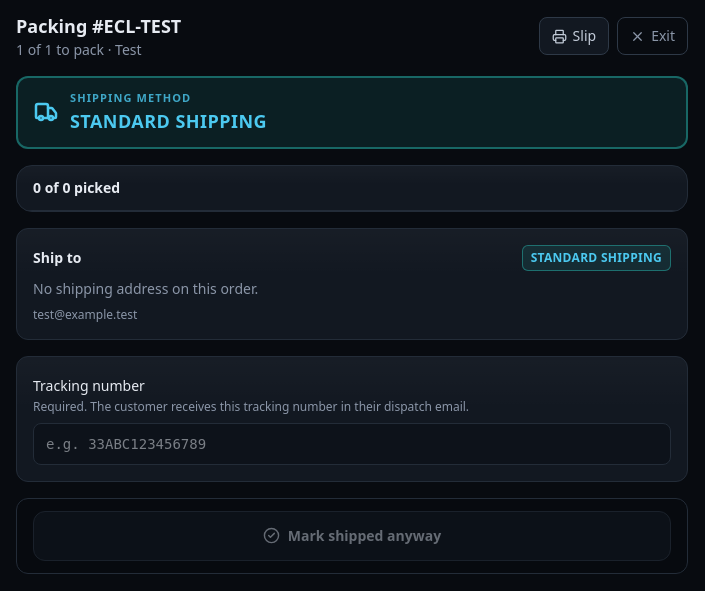
it: also requires tracking on the packing screen
Check: the button "Mark shipped anyway" is disabled, box [33,510,671,560]
Type "TRACK123" into the field labelled "Tracking number" at x=352, y=444, box [33,422,671,464]
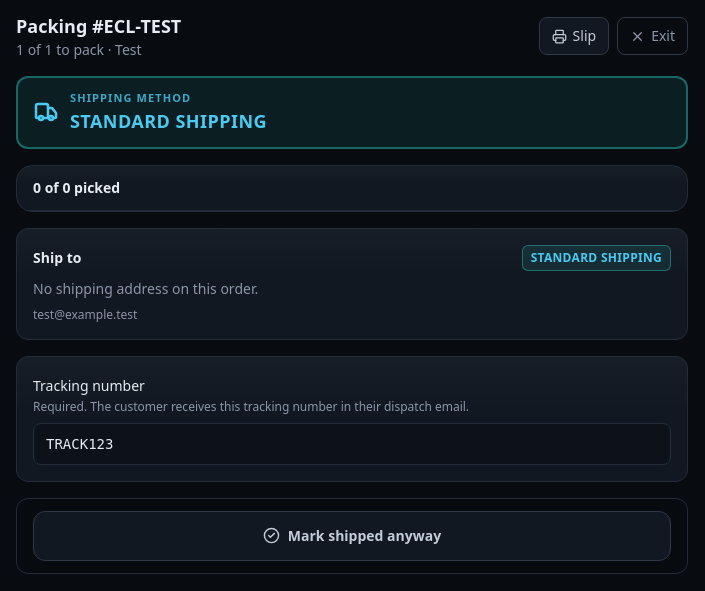
Check: the button "Mark shipped anyway" is enabled, box [33,510,671,560]
